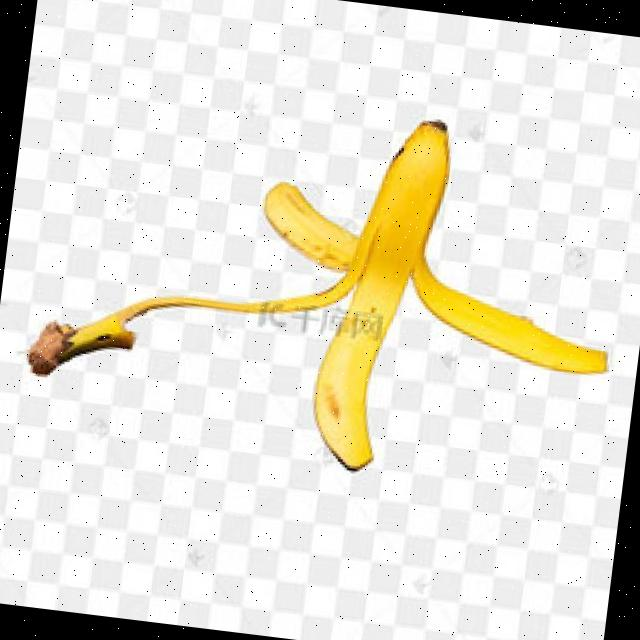banana-peel: (17, 70, 636, 500)
